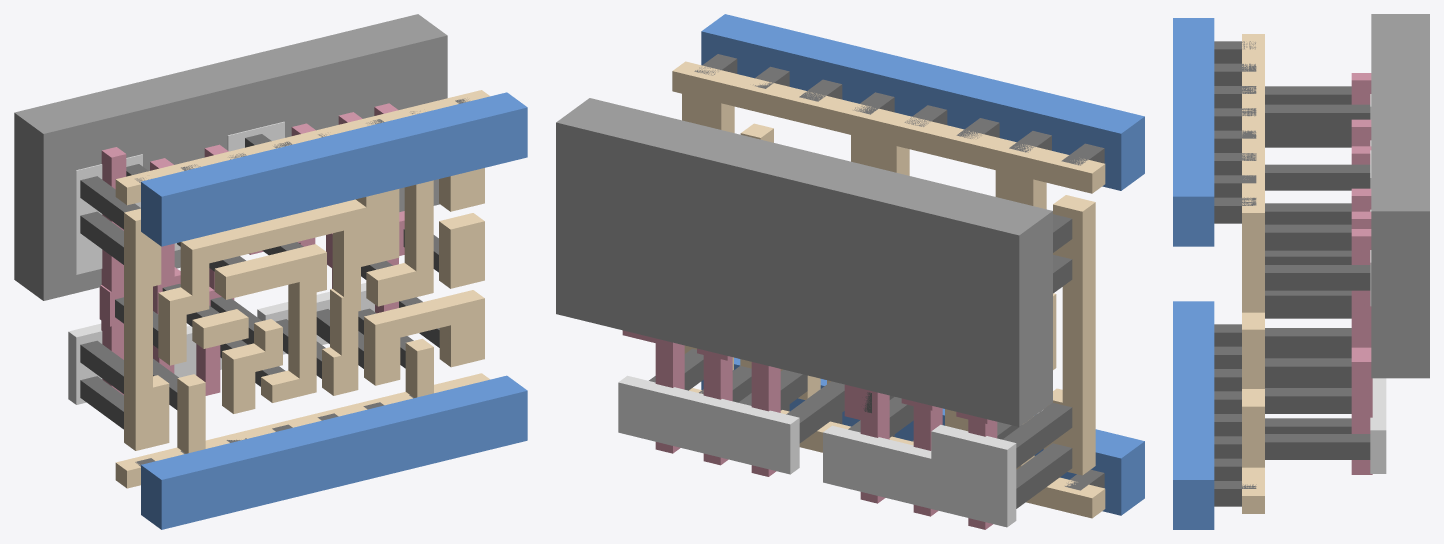
The model's file is sky130_fd_sc_hd__o2bb2a_1.gds.gltf.
The picture shows the model from 3 angles, left to right: view 1: azimuth 30°, elevation 25°; view 2: azimuth 150°, elevation 25°; view 3: azimuth 270°, elevation 25°; orthographic projection. The views are drawn at different scales.
Parts seen in each view (by area): view 1: sky130_fd_sc_hd__o2bb2a_1_li1, sky130_fd_sc_hd__o2bb2a_1_met1, sky130_fd_sc_hd__o2bb2a_1_nwell, sky130_fd_sc_hd__o2bb2a_1_licon, sky130_fd_sc_hd__o2bb2a_1_poly, sky130_fd_sc_hd__o2bb2a_1_diff, sky130_fd_sc_hd__o2bb2a_1_mcon; view 2: sky130_fd_sc_hd__o2bb2a_1_nwell, sky130_fd_sc_hd__o2bb2a_1_li1, sky130_fd_sc_hd__o2bb2a_1_met1, sky130_fd_sc_hd__o2bb2a_1_diff, sky130_fd_sc_hd__o2bb2a_1_licon, sky130_fd_sc_hd__o2bb2a_1_poly, sky130_fd_sc_hd__o2bb2a_1_mcon; view 3: sky130_fd_sc_hd__o2bb2a_1_licon, sky130_fd_sc_hd__o2bb2a_1_nwell, sky130_fd_sc_hd__o2bb2a_1_met1, sky130_fd_sc_hd__o2bb2a_1_mcon, sky130_fd_sc_hd__o2bb2a_1_li1, sky130_fd_sc_hd__o2bb2a_1_poly, sky130_fd_sc_hd__o2bb2a_1_diff.
Boxes of the visible parts, x1,y1,x2,y2 form: sky130_fd_sc_hd__o2bb2a_1_li1: (115,90,489,488); sky130_fd_sc_hd__o2bb2a_1_met1: (141,92,527,529); sky130_fd_sc_hd__o2bb2a_1_nwell: (14,14,447,300); sky130_fd_sc_hd__o2bb2a_1_licon: (80,134,439,429); sky130_fd_sc_hd__o2bb2a_1_poly: (99,103,404,395); sky130_fd_sc_hd__o2bb2a_1_diff: (68,121,374,404); sky130_fd_sc_hd__o2bb2a_1_mcon: (135,98,469,466); sky130_fd_sc_hd__o2bb2a_1_nwell: (556,98,1052,426); sky130_fd_sc_hd__o2bb2a_1_li1: (672,61,1105,518); sky130_fd_sc_hd__o2bb2a_1_met1: (701,14,1144,515); sky130_fd_sc_hd__o2bb2a_1_diff: (618,375,1016,527); sky130_fd_sc_hd__o2bb2a_1_licon: (649,214,1072,508); sky130_fd_sc_hd__o2bb2a_1_poly: (622,330,997,529); sky130_fd_sc_hd__o2bb2a_1_mcon: (694,54,1104,490); sky130_fd_sc_hd__o2bb2a_1_licon: (1265,86,1370,459); sky130_fd_sc_hd__o2bb2a_1_nwell: (1371,14,1429,378); sky130_fd_sc_hd__o2bb2a_1_met1: (1173,18,1214,529); sky130_fd_sc_hd__o2bb2a_1_mcon: (1214,41,1256,506); sky130_fd_sc_hd__o2bb2a_1_li1: (1242,34,1264,513); sky130_fd_sc_hd__o2bb2a_1_poly: (1351,73,1372,474); sky130_fd_sc_hd__o2bb2a_1_diff: (1370,94,1386,473).
Size of the model in its own units: 4.06 by 3.2 by 2.24.
